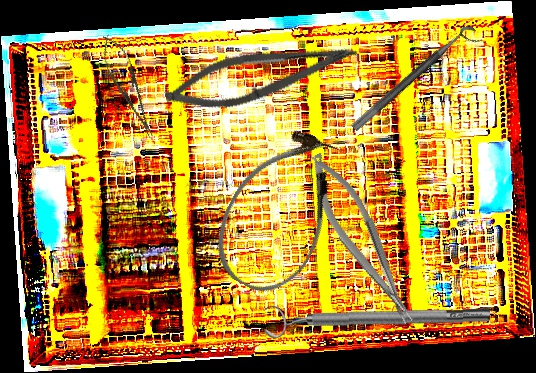Cannula: (199, 116, 361, 306)
Fixation Ring: (350, 21, 484, 143), (264, 299, 491, 339)
Micro Scissor: (160, 21, 362, 126)
Needle Holder: (298, 145, 423, 334), (93, 30, 163, 143)
